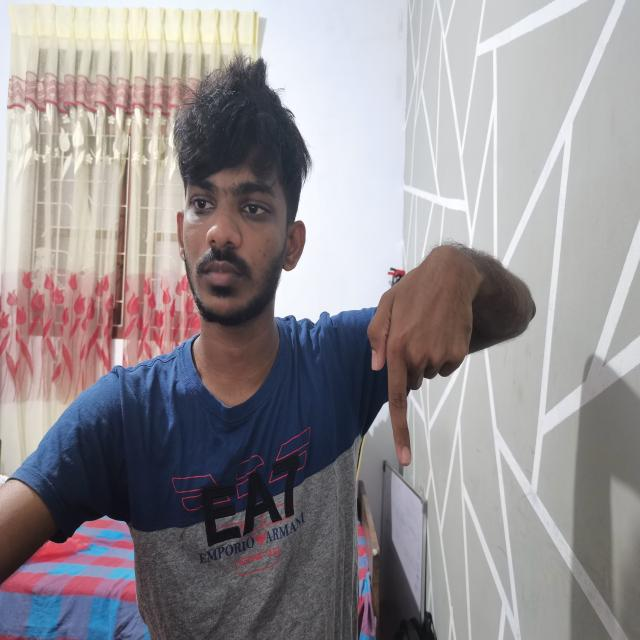Yes: (352, 226, 534, 478)
